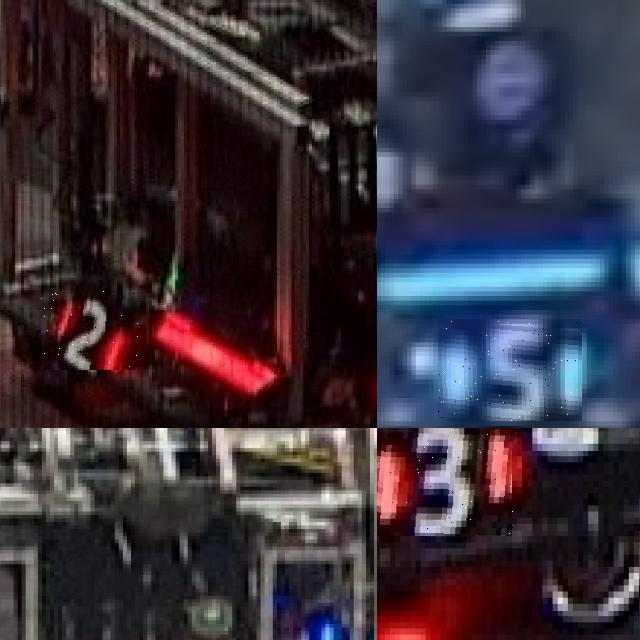B5: (438, 319, 582, 421)
R2: (42, 290, 144, 370)
R3: (377, 428, 517, 536)
